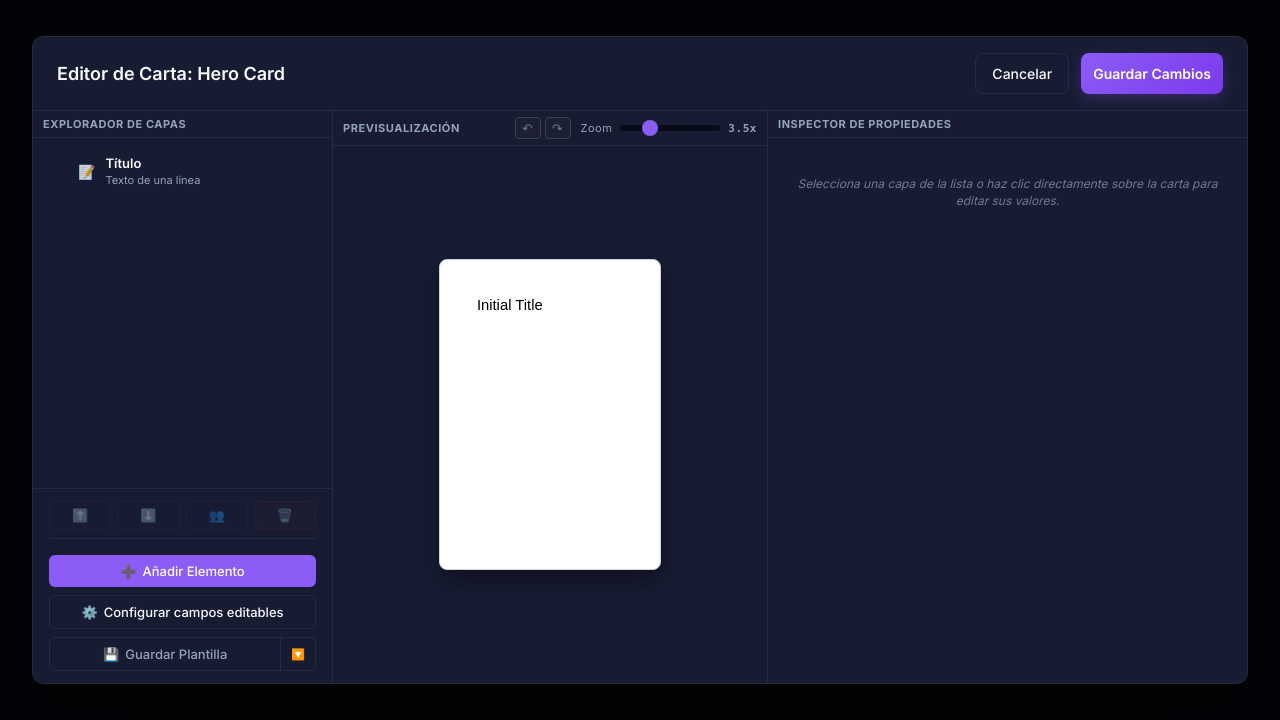
Test: SRS-090: Historial de Deshacer y Rehacer en EditCardModal › permite deshacer y rehacer cambios en campos de texto consolidando en la misma sesión
Note: Seleccionar la capa "Título" en la jerarquía
Click the text "Título" at [123, 163], box [106,155,141,171]
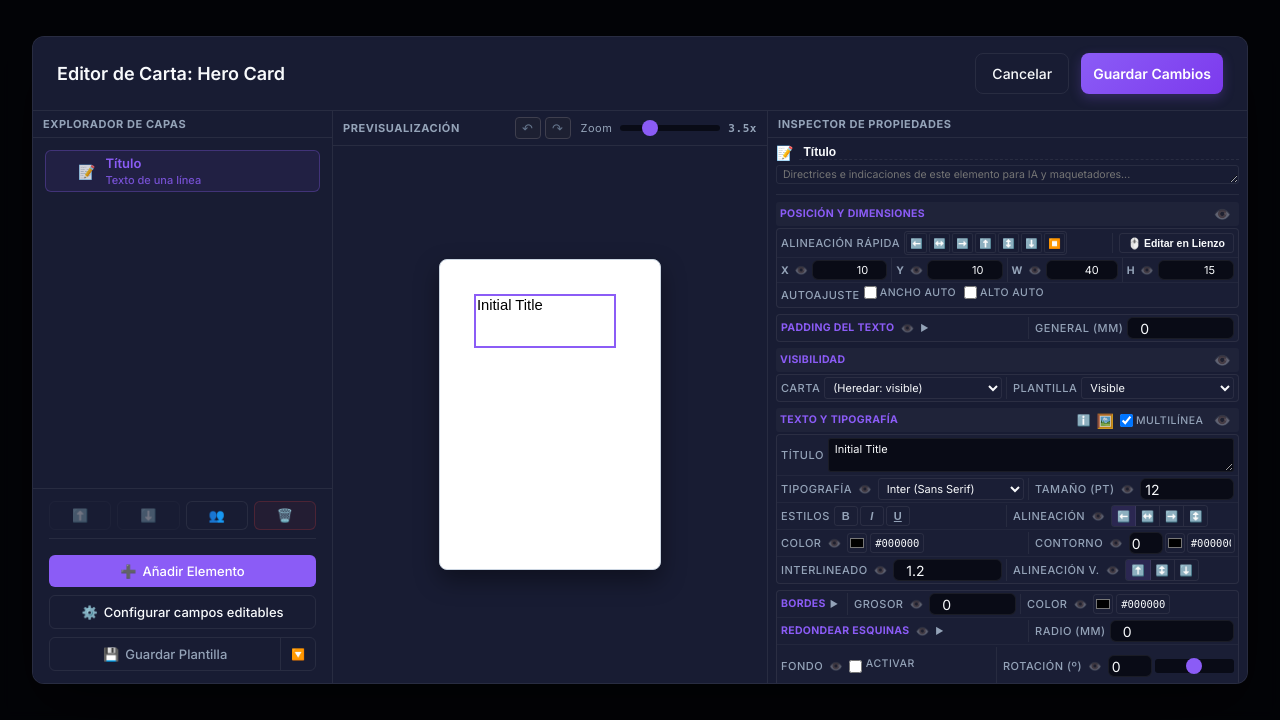
Check: the text box with id "editcard-text-textarea-layer_title" is shown
Check: the text box with id "editcard-text-textarea-layer_title" holds "Initial Title"
Note: Enfocar y escribir varios caracteres en la misma sesión de edición
Replace the text in the text box with id "editcard-text-textarea-layer_title" with "Initial Title A" at [1031, 455], box [828,438,1234,472]
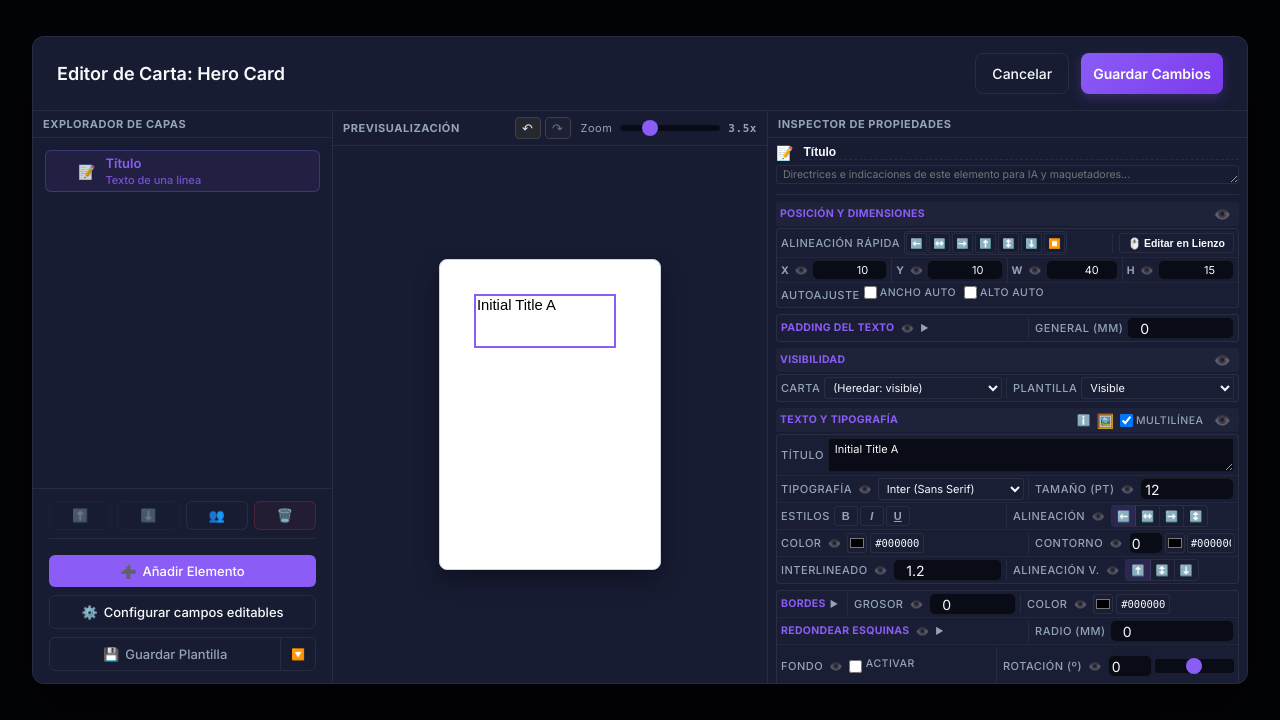
Replace the text in the text box with id "editcard-text-textarea-layer_title" with "Initial Title AB" at [1031, 455], box [828,438,1234,472]
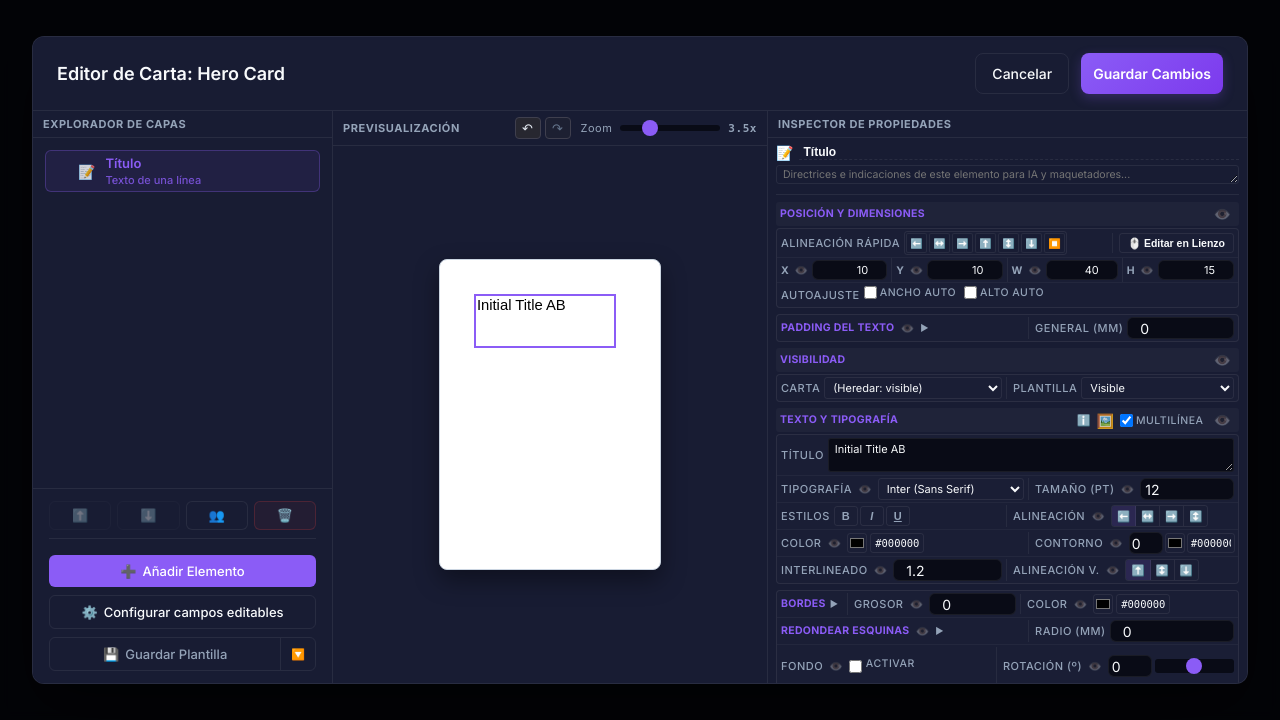
Replace the text in the text box with id "editcard-text-textarea-layer_title" with "Updated Title" at [1031, 455], box [828,438,1234,472]
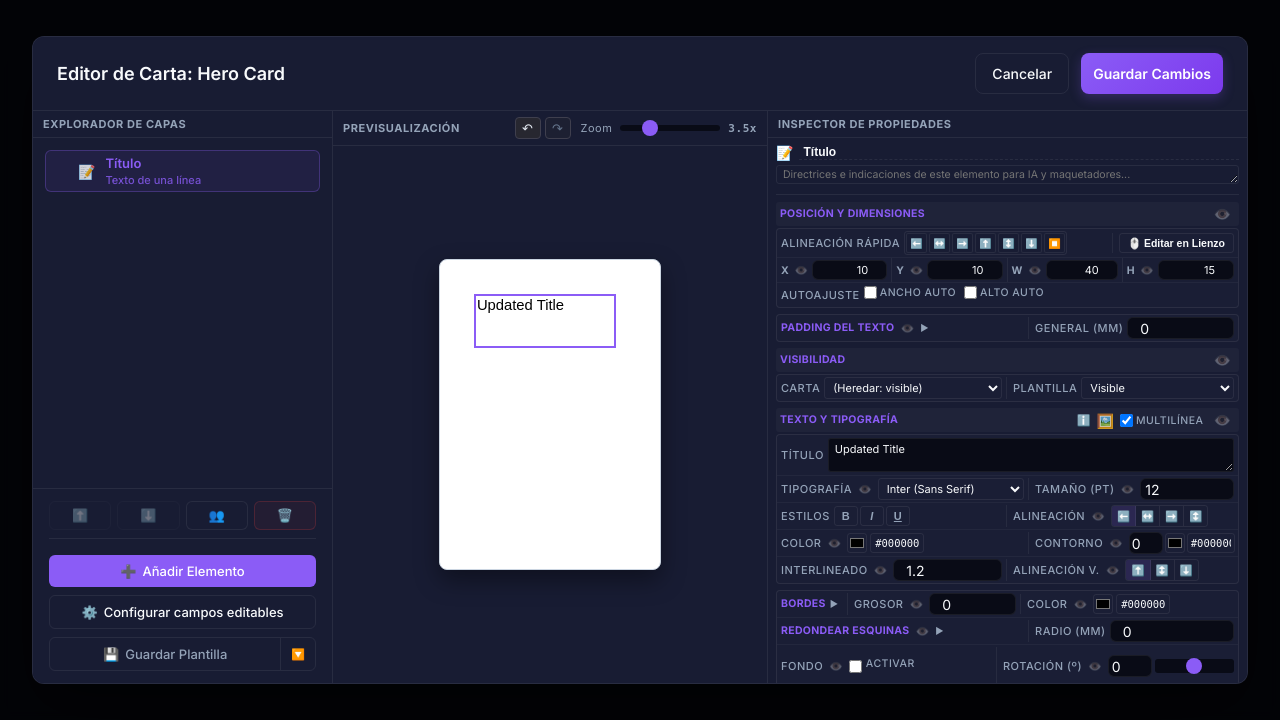
Check: the button named "Rehacer" is disabled, box [544,117,570,139]
Check: the button named "Deshacer" is enabled
Note: Hacemos click en Deshacer
Click the button named "Deshacer" at [528, 128], box [514,117,540,139]
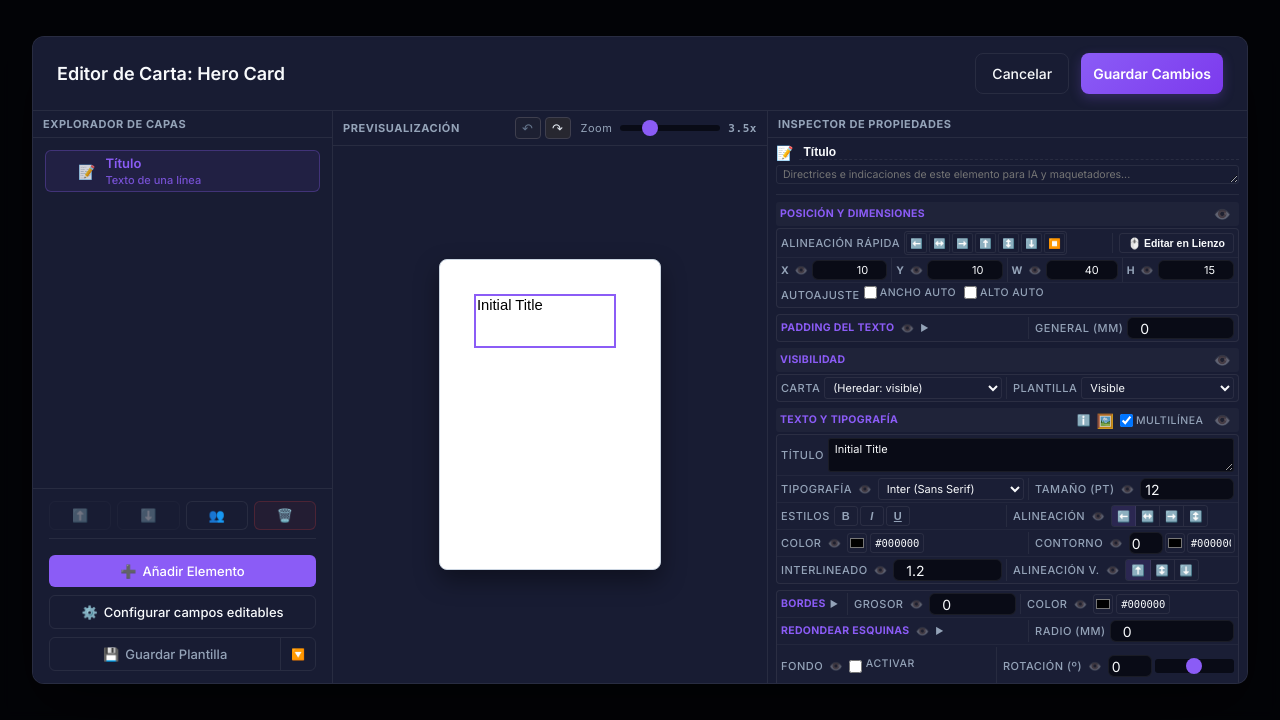
Check: the text box with id "editcard-text-textarea-layer_title" holds "Initial Title", box [828,438,1234,472]
Check: the button named "Deshacer" is disabled, box [514,117,540,139]
Check: the button named "Rehacer" is enabled
Note: Hacemos click en Rehacer
Click the button named "Rehacer" at [558, 128], box [544,117,570,139]
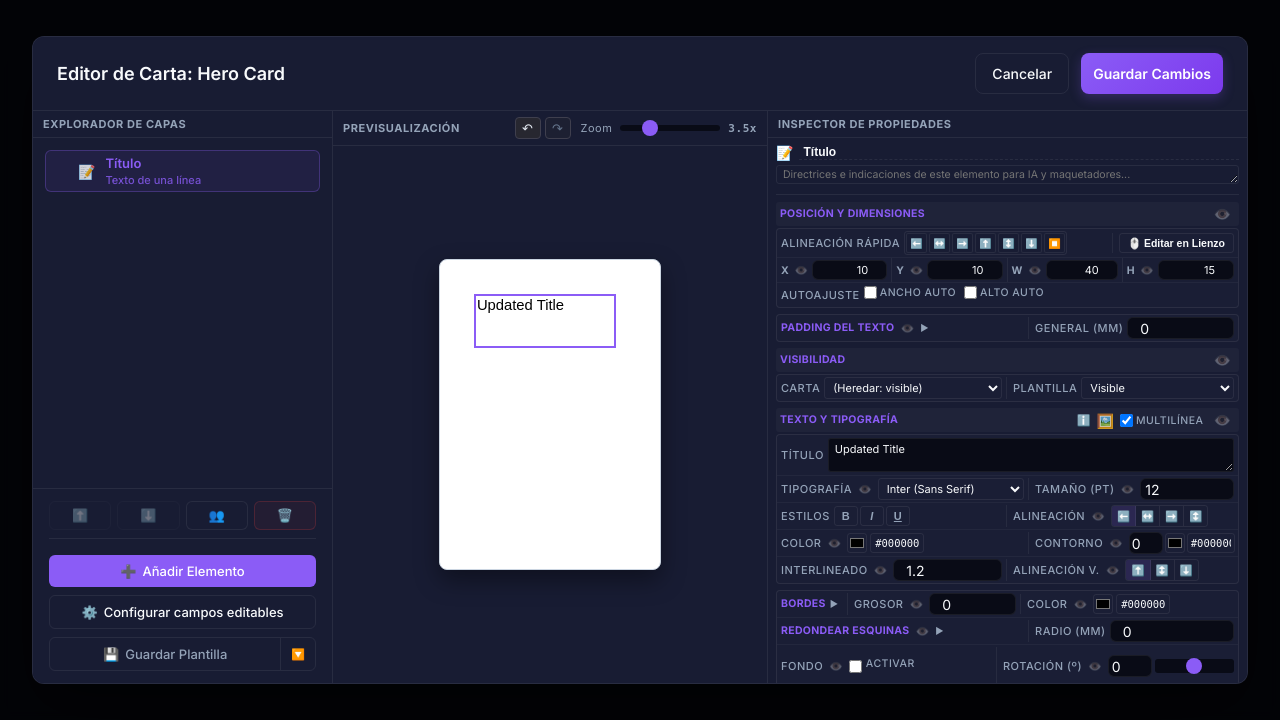
Check: the button named "Deshacer" is enabled, box [514,117,540,139]
Check: the button named "Rehacer" is disabled, box [544,117,570,139]
